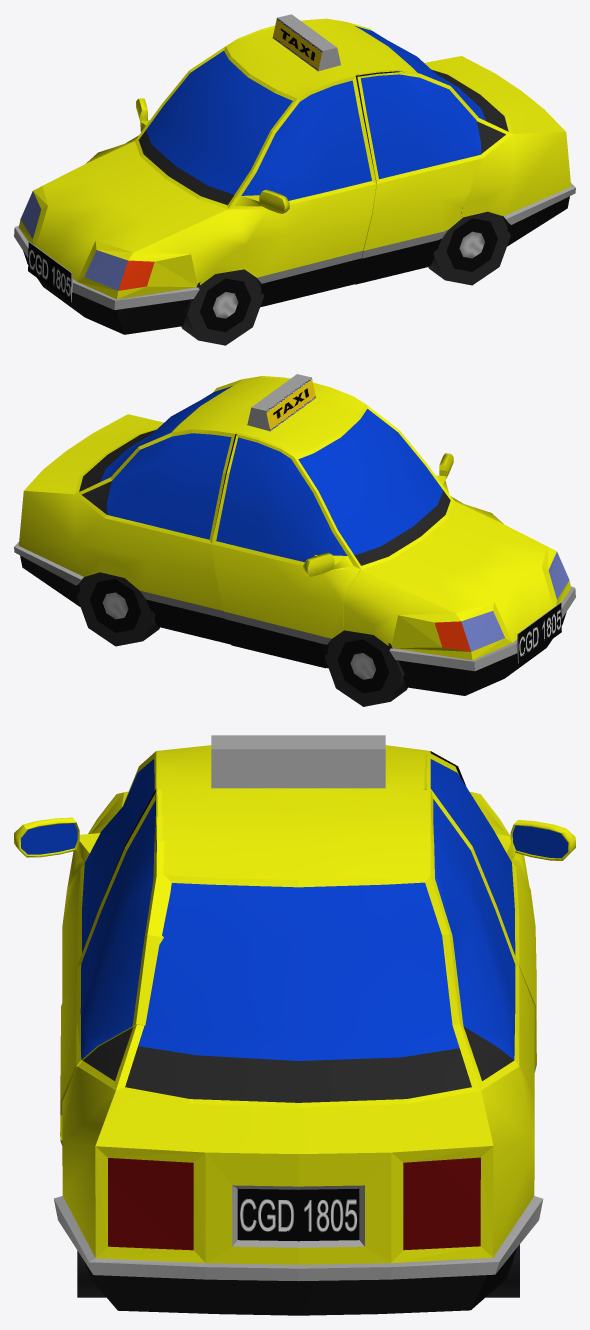
The model's file is Taxi model.FBX.
The picture shows the model from 3 angles, top to bottom: view 1: azimuth 30°, elevation 25°; view 2: azimuth 150°, elevation 25°; view 3: azimuth 270°, elevation 25°; orthographic projection. The views are drawn at different scales.
Visible parts, largest first — view 1: Taxi, Back Door, Front Left Tyre, Back Left Tyre; view 2: Taxi, Driver Door, Front Right Tyre, Back Right Tyre; view 3: Taxi, Back Door, Driver Door, Back Right Tyre.
Part boxes in pixels (x1=…): Taxi: x1=14, y1=14, x2=575, y2=334; Back Door: x1=355, y1=69, x2=483, y2=284; Front Left Tyre: x1=181, y1=269, x2=263, y2=345; Back Left Tyre: x1=428, y1=211, x2=510, y2=285; Taxi: x1=14, y1=374, x2=575, y2=695; Driver Door: x1=211, y1=432, x2=360, y2=668; Front Right Tyre: x1=325, y1=630, x2=407, y2=706; Back Right Tyre: x1=77, y1=572, x2=159, y2=646; Taxi: x1=14, y1=735, x2=543, y2=1315; Back Door: x1=60, y1=789, x2=171, y2=1145; Driver Door: x1=423, y1=753, x2=575, y2=1072; Back Right Tyre: x1=486, y1=1244, x2=519, y2=1297.
Size of the model in its own units: 56.32 by 26.54 by 29.86.
Materials: 12 (3 with a texture image).
